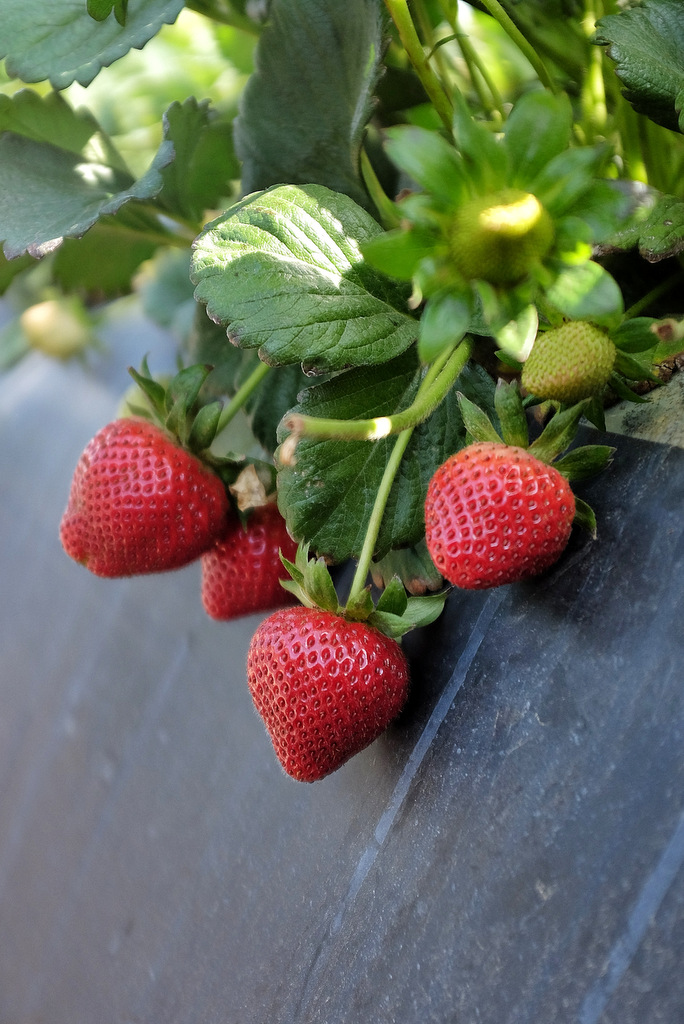ripe: (241, 604, 410, 789), (61, 416, 230, 583), (424, 441, 586, 596), (197, 497, 321, 631)
unripe: (450, 186, 560, 289), (519, 316, 615, 412)
